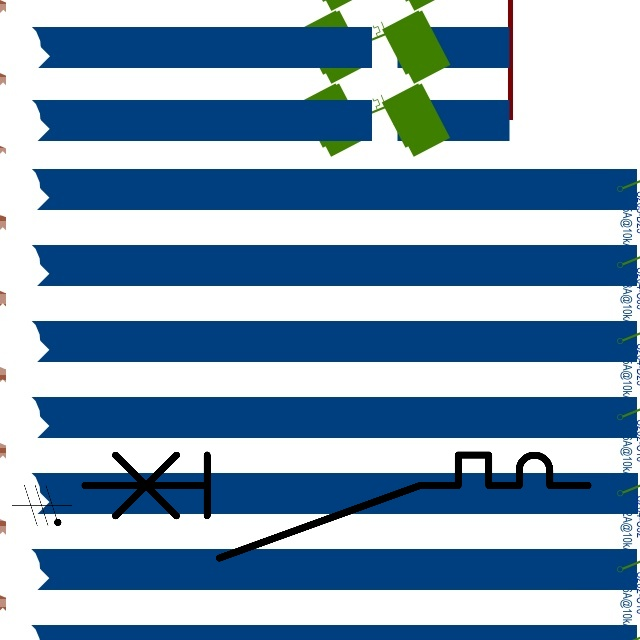interruptor_termomagnetico: (71, 442, 600, 571)
